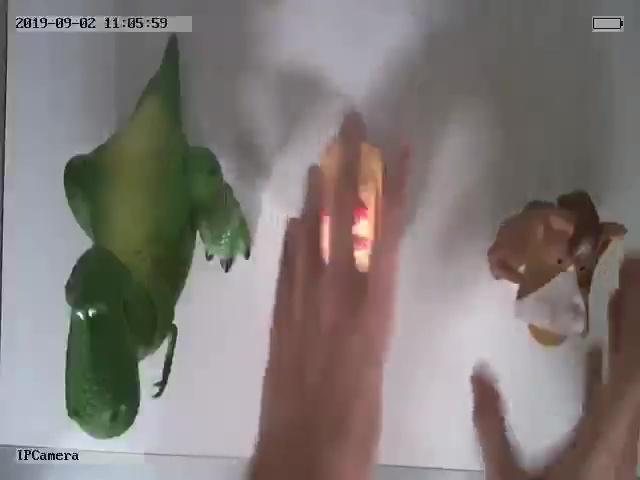horse: (486, 189, 628, 349)
rex: (64, 49, 255, 440)
